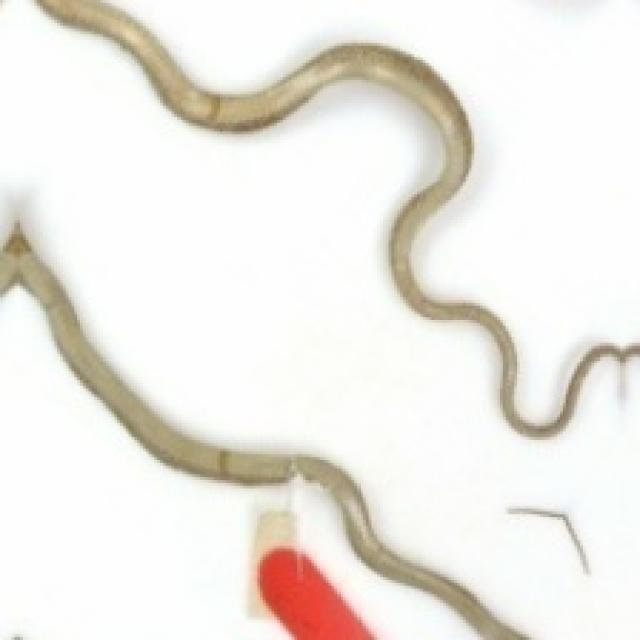mullers wolf snake: (0, 0, 637, 637), (111, 0, 637, 417), (0, 0, 494, 426), (0, 289, 474, 637)
